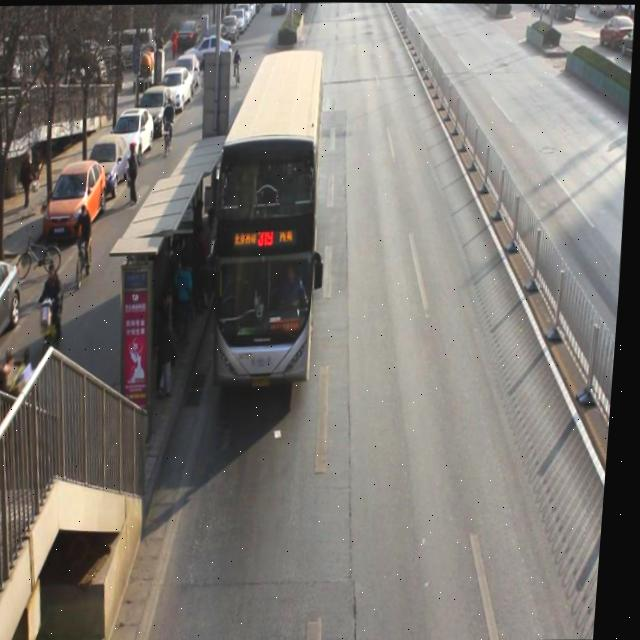van: (206, 50, 332, 382)
